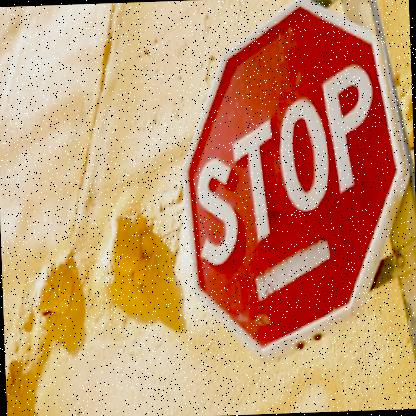stop: (173, 0, 415, 363)
